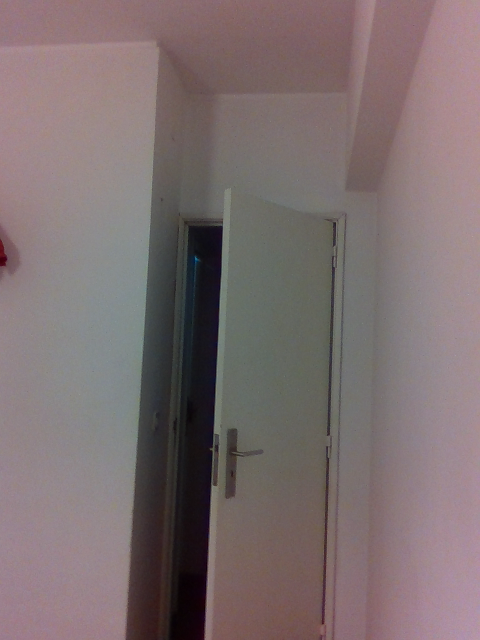semi: (153, 190, 347, 639)
